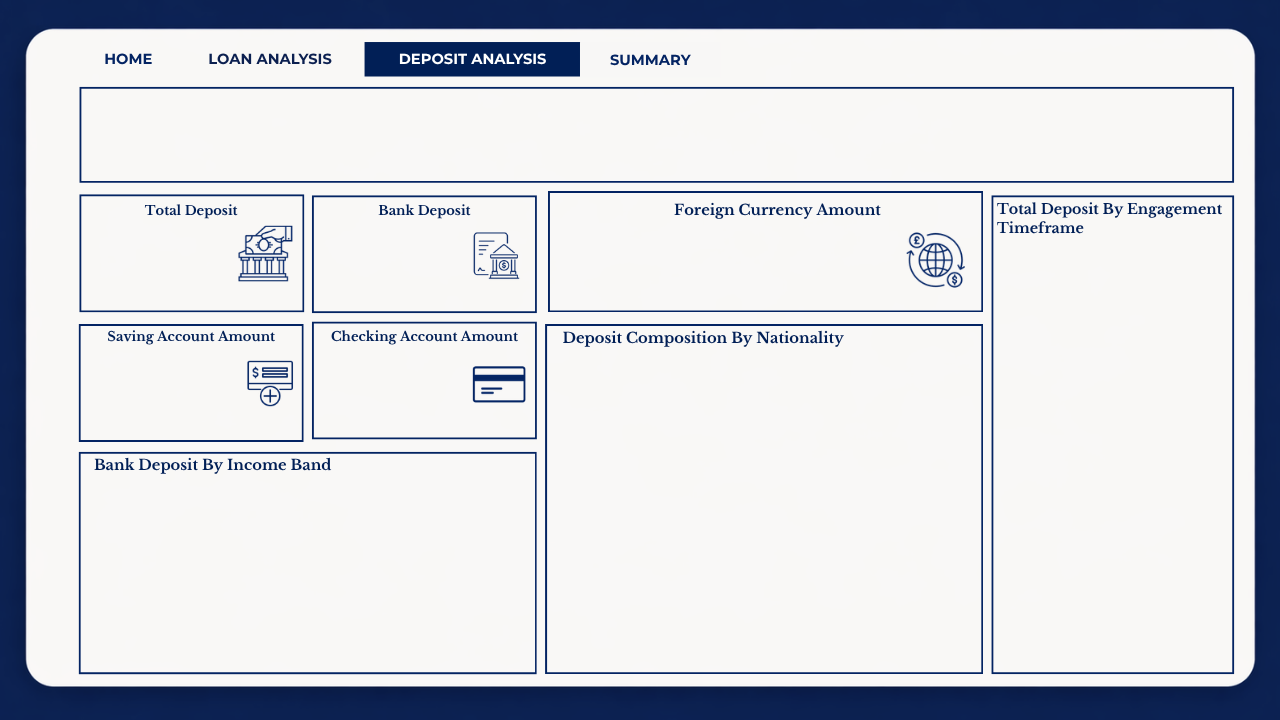

Layout of this report page (visuals, bound fields, positions):
{"tool":"powerbi","page":{"name":"Deposit Analysis","canvas":[1280,720],"ordinal":2},"visuals":[{"type":"actionButton","box":[76.3,40.3,99.4,40.3],"z":0},{"type":"actionButton","box":[195.8,30.2,148.3,50.4],"z":1000},{"type":"actionButton","box":[593.3,30.2,97.9,50.4],"z":2000},{"type":"card","fields":{"Values":["public customer.Total Deposit"]},"box":[75.3,214.8,172.8,71.6],"z":3000},{"type":"card","fields":{"Values":["Sum(public customer.Bank Deposits)"]},"box":[318.2,216,172.8,72],"z":4000},{"type":"card","fields":{"Values":["public customer.Saving Account Amount"]},"box":[59,339.8,203,69.1],"z":5000},{"type":"card","fields":{"Values":["Sum(public customer.Checking Accounts)"]},"box":[306.7,345.6,172.8,72],"z":6000},{"type":"card","fields":{"Values":["Sum(public customer.Foreign Currency Account)"]},"box":[597.6,214.6,329.8,72],"z":7000},{"type":"treemap","fields":{"Values":["Sum(public customer.Bank Deposits)"],"Group":["public customer.Income Band"]},"box":[80.6,472.3,453.6,194.4],"z":8000},{"type":"columnChart","title":"Bank Loan By Income Band ","fields":{"Category":["public customer.Nationality"],"Y":["Sum(public customer.Bank Deposits)","Sum(public customer.Checking Accounts)","public customer.Saving Account Amount","Sum(public customer.Foreign Currency Account)"]},"box":[554.4,345.6,423.4,321.1],"z":9000},{"type":"clusteredBarChart","title":"Bank Loan By Income Band ","fields":{"Y":["public customer.Total Deposit"],"Category":["public customer.Engagement Timeframe"]},"box":[997.9,252,230.4,414.7],"z":10000},{"type":"slicer","title":"Banking Relationship","fields":{"Values":["public customer.BRId"]},"box":[85.2,95.1,335.8,71.6],"z":11000},{"type":"slicer","title":"Gender","fields":{"Values":["public customer.GenderId"]},"box":[440.7,95.1,398.8,71.6],"z":12000},{"type":"slicer","title":"Investment Advisor","fields":{"Values":["public customer.IAId"]},"box":[851.9,100,366.7,66.7],"z":13000},{"type":"ChicletSlicer1448559807354","fields":{"Category":["Period Filter.Period"]},"box":[694.1,37.4,567.4,47.5],"z":14000}]}

Visuals, with their boxes in screenshot pixels (x1, y1, x2, y2), scaled from the page's 1280x720 canvas onto the 1280x720 screenshot:
actionButton: <bbox>76, 40, 176, 81</bbox>
actionButton: <bbox>196, 30, 344, 81</bbox>
actionButton: <bbox>593, 30, 691, 81</bbox>
card - public customer.Total Deposit: <bbox>75, 215, 248, 286</bbox>
card - Sum(public customer.Bank Deposits): <bbox>318, 216, 491, 288</bbox>
card - public customer.Saving Account Amount: <bbox>59, 340, 262, 409</bbox>
card - Sum(public customer.Checking Accounts): <bbox>307, 346, 480, 418</bbox>
card - Sum(public customer.Foreign Currency Account): <bbox>598, 215, 927, 287</bbox>
treemap - Sum(public customer.Bank Deposits) x public customer.Income Band: <bbox>81, 472, 534, 667</bbox>
"Bank Loan By Income Band " columnChart: <bbox>554, 346, 978, 667</bbox>
"Bank Loan By Income Band " clusteredBarChart: <bbox>998, 252, 1228, 667</bbox>
"Banking Relationship" slicer: <bbox>85, 95, 421, 167</bbox>
"Gender" slicer: <bbox>441, 95, 840, 167</bbox>
"Investment Advisor" slicer: <bbox>852, 100, 1219, 167</bbox>
ChicletSlicer1448559807354 - Period Filter.Period: <bbox>694, 37, 1262, 85</bbox>
